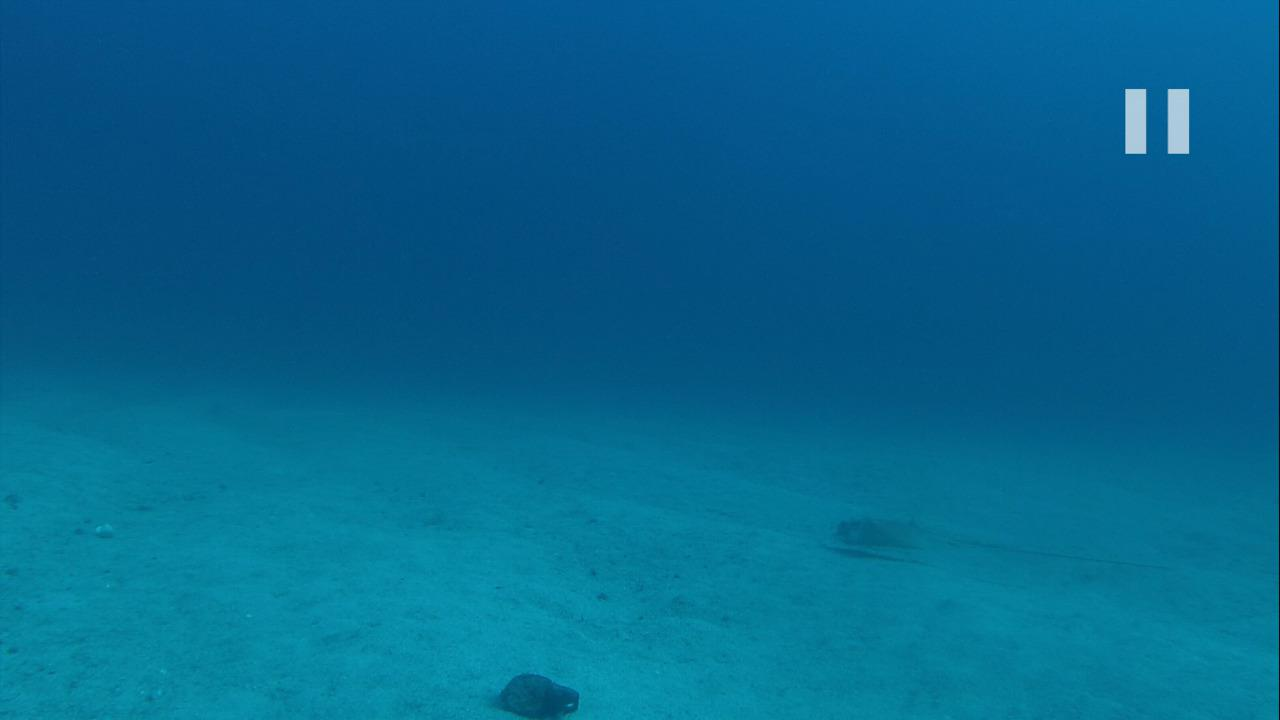myliobatis: (825, 506, 1131, 575)
